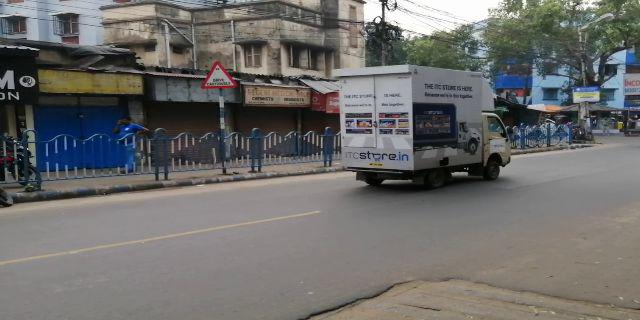Minitruck: (335, 65, 513, 193)
